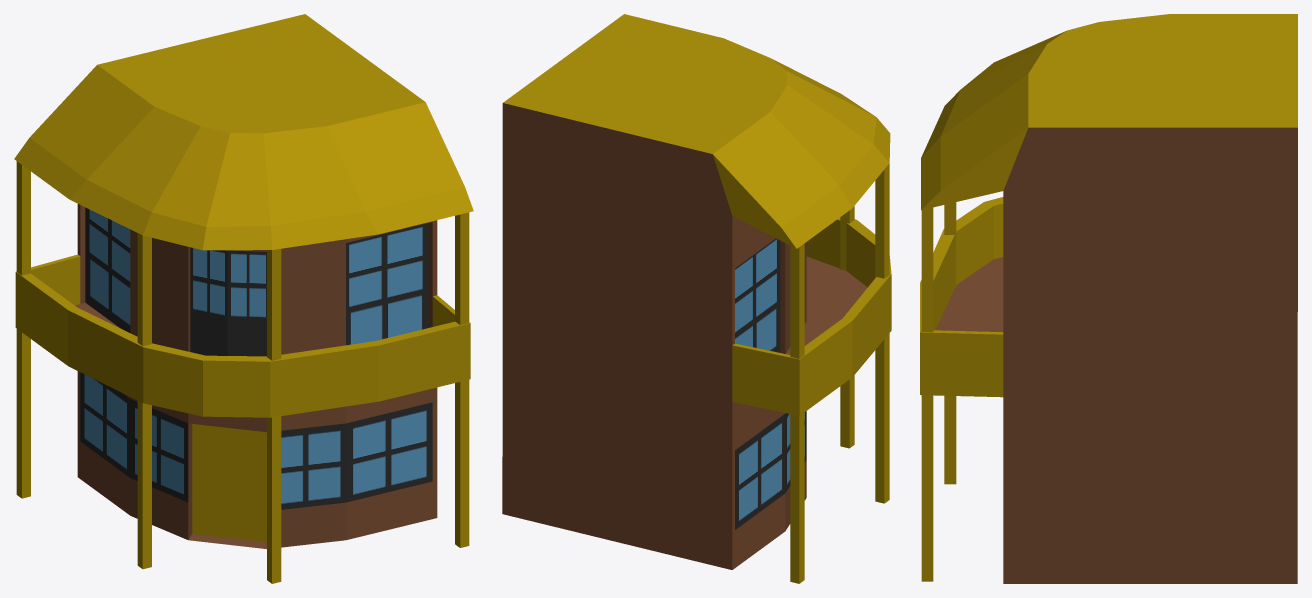
File: JazzCorner5.obj
3 views of the same model, side by side, from view 1: azimuth 30°, elevation 25°; view 2: azimuth 150°, elevation 25°; view 3: azimuth 270°, elevation 25° (orthographic). The views are drawn at different scales.
Parts seen in each view (by area): view 1: JazzCornerH.004; view 2: JazzCornerH.004; view 3: JazzCornerH.004.
Part boxes in pixels (x1,y1,x2,y2): JazzCornerH.004: (14,14,473,583); JazzCornerH.004: (502,14,891,583); JazzCornerH.004: (920,14,1297,583).
Size of the model in its own units: 6.41 by 8.55 by 6.42.
